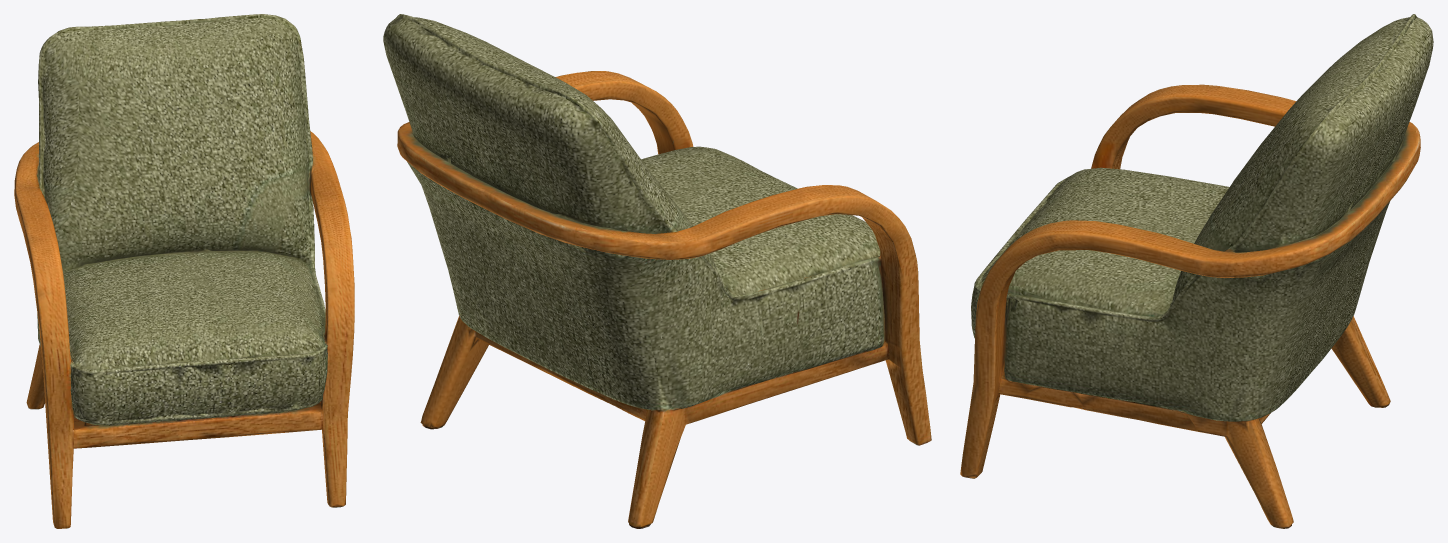
The model's file is reading-chair-mobile-v1.glb.
3 views of the same model, side by side, from view 1: azimuth 30°, elevation 25°; view 2: azimuth 150°, elevation 25°; view 3: azimuth 270°, elevation 25° (orthographic). The views are drawn at different scales.
Visible parts, largest first — view 1: reading-chair; view 2: reading-chair; view 3: reading-chair.
Part boxes in pixels (x1,y1,x2,y2): reading-chair: [14, 14, 354, 528]; reading-chair: [383, 14, 931, 528]; reading-chair: [960, 14, 1433, 528].
Bounding box in the file's own units: 0.9702 × 0.9475 × 0.9793.
1 material, 1 textured.
